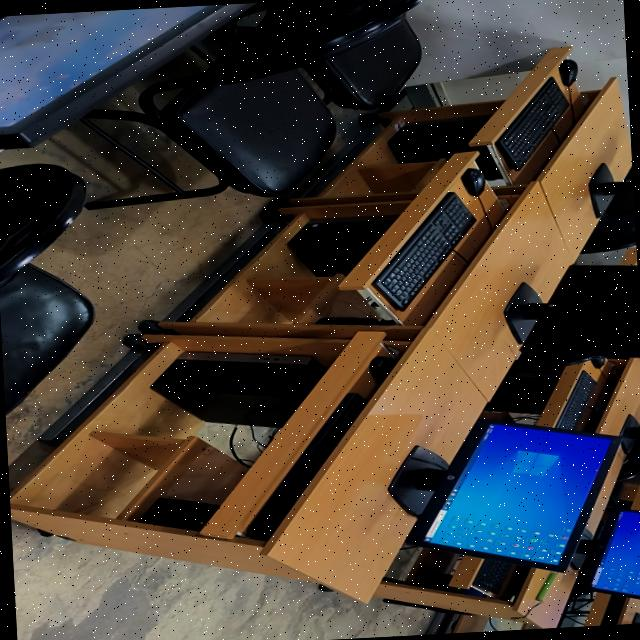Chair: (85, 0, 422, 210), (0, 164, 94, 415), (304, 19, 420, 111)
Cpu: (151, 352, 324, 428), (388, 115, 500, 180), (288, 216, 395, 277)
Keyboard: (245, 394, 367, 540), (372, 193, 474, 311), (494, 78, 568, 170), (555, 371, 595, 430), (471, 559, 511, 597), (600, 595, 624, 626)
Monitor: (388, 420, 619, 572), (503, 265, 640, 357), (577, 505, 640, 599), (604, 167, 635, 215), (617, 417, 640, 481)
Mouse: (369, 356, 397, 385), (461, 169, 485, 197), (558, 60, 577, 86), (590, 357, 606, 369)
